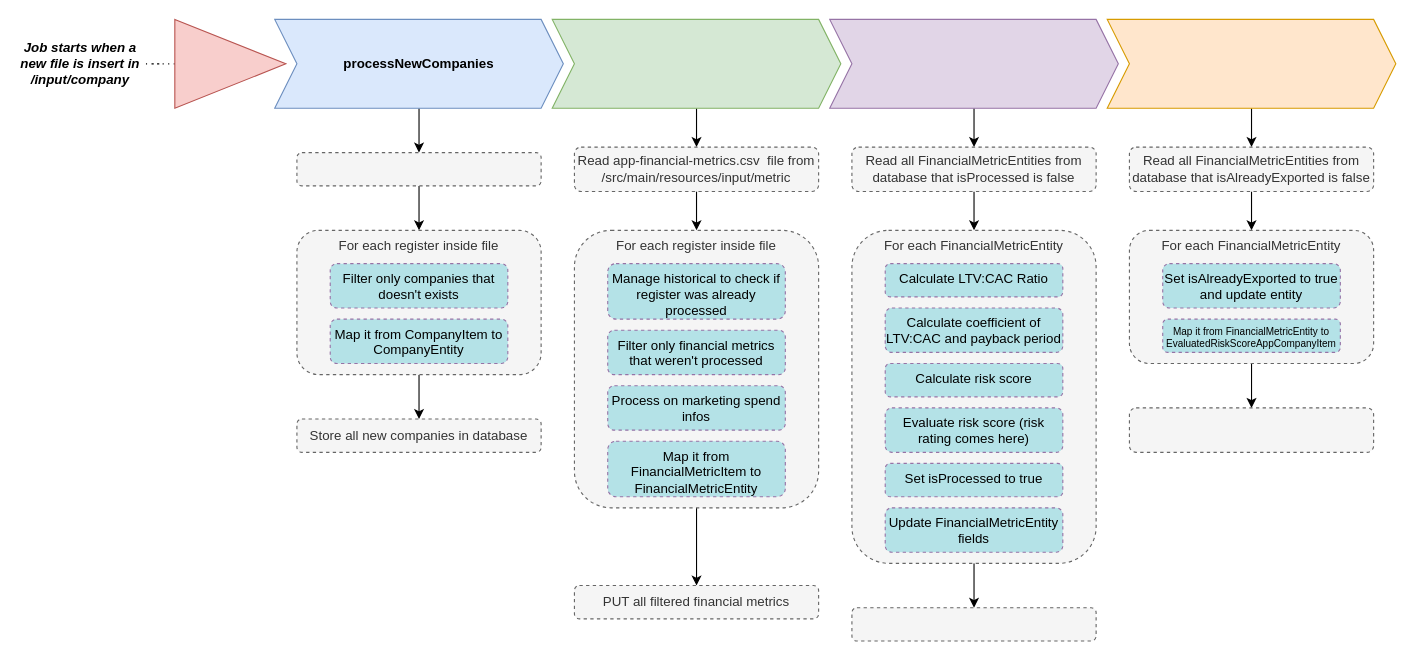
This 1415x660 diagram has some shape labels left out. The centre of each missing label's shape, as x and y in pixels:
"evaluateCreditRisk" goes at (973,63).
"exportUnprocessedMonths" goes at (1251,63).
"jobLauncher" goes at (230,63).
"processFinancialMetrics" goes at (696,63).
"Read *csv file from /input/company" goes at (418,169).
"UPDATE all FinancialMetricEntities" goes at (973,624).
"Write all items to output file locate in /output" goes at (1251,429).
